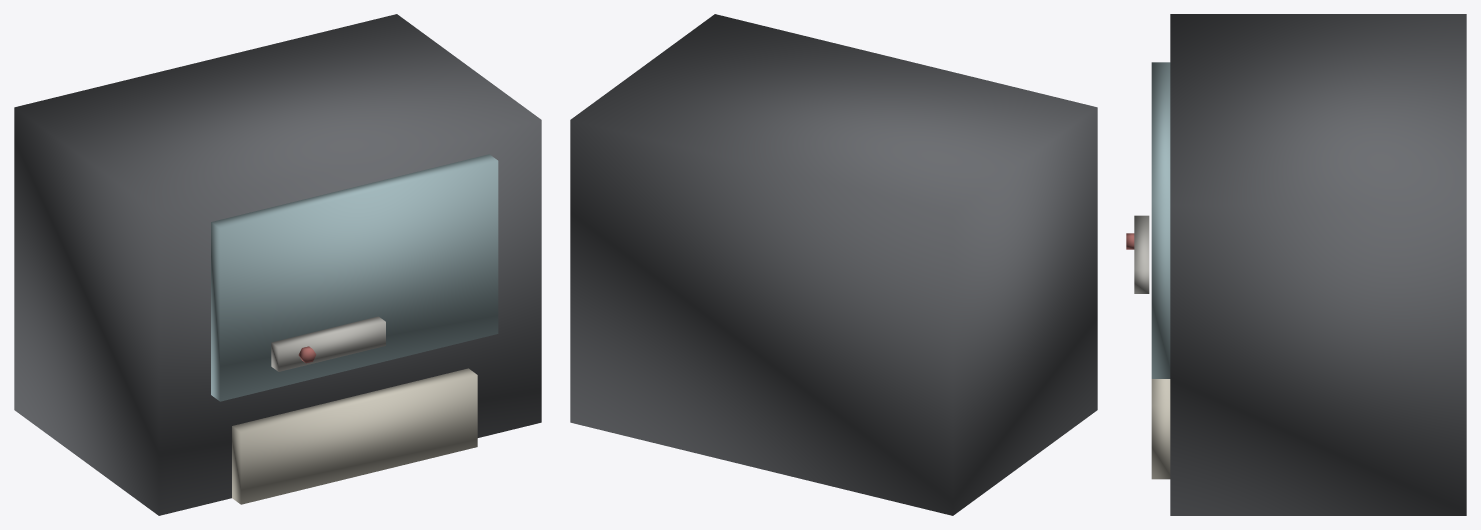
Rendered from microfilm_reader__reinforced.glb.
3 renders of one model, left to right at view 1: azimuth 30°, elevation 25°; view 2: azimuth 150°, elevation 25°; view 3: azimuth 270°, elevation 25°, orthographic. The views are drawn at different scales.
Parts seen in each view (by area): view 1: world; view 2: world; view 3: world.
Boxes of the visible parts, x1,y1,x2,y2 form: world: (14, 14, 541, 515); world: (570, 14, 1097, 515); world: (1126, 14, 1466, 515).
Bounding box in the file's own units: 0.5665 × 0.4284 × 0.4259.
